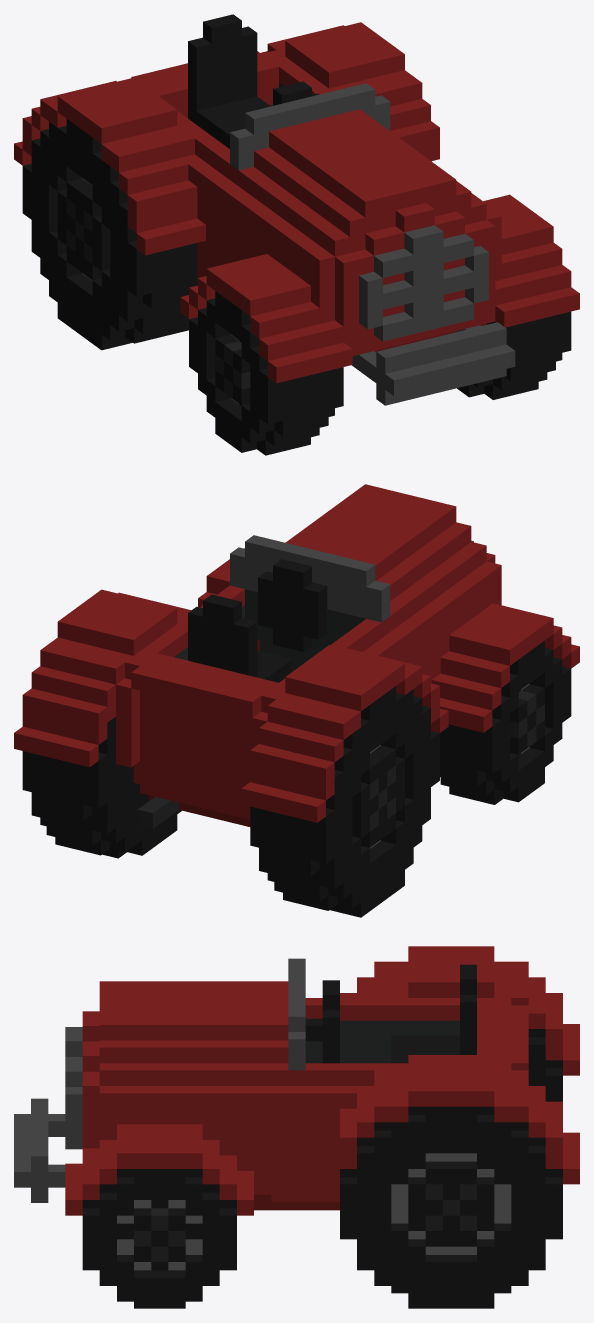
The model's file is farm-59-tractor2.obj.
3 views of the same model, one above another, from view 1: azimuth 30°, elevation 25°; view 2: azimuth 150°, elevation 25°; view 3: azimuth 270°, elevation 25° (orthographic). The views are drawn at different scales.
Parts seen in each view (by area): view 1: tractor2; view 2: tractor2; view 3: tractor2.
Part boxes in pixels (x1,y1,x2,y2): tractor2: (14, 14, 579, 455); tractor2: (14, 484, 579, 917); tractor2: (14, 946, 579, 1308).
Bounding box in the file's own units: 2 × 1.7 × 3.3.
Materials: 1 (1 with a texture image).
